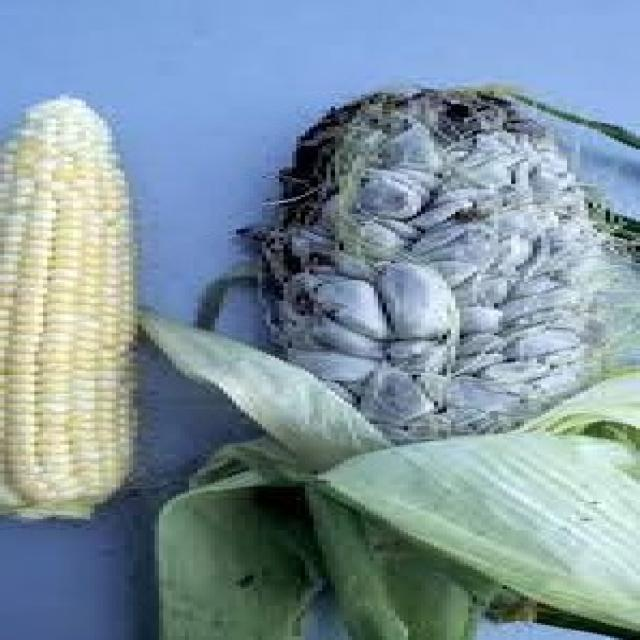Leaf_Scald: (206, 77, 635, 640)
